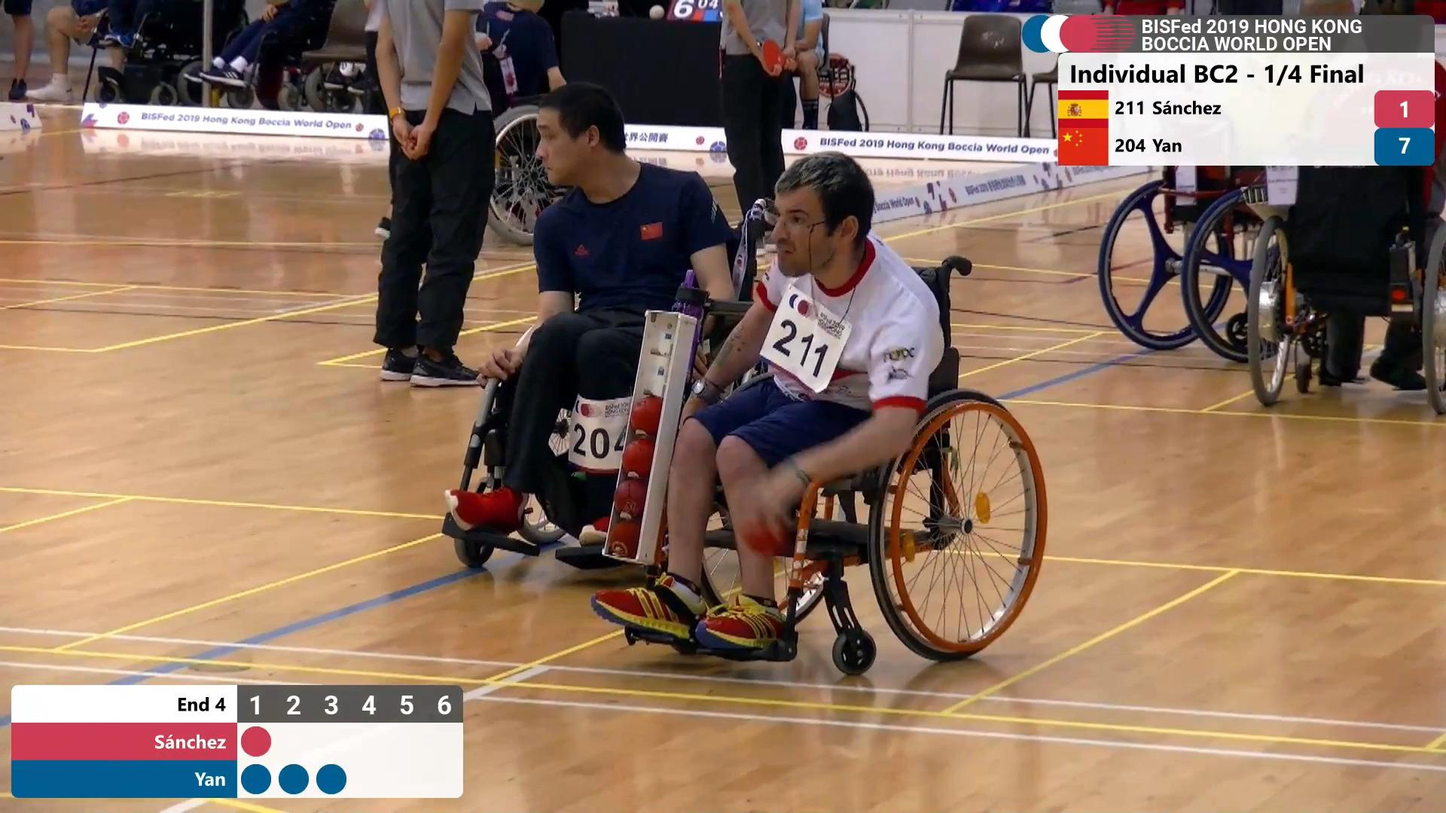red_ball: (631, 396, 667, 442)
